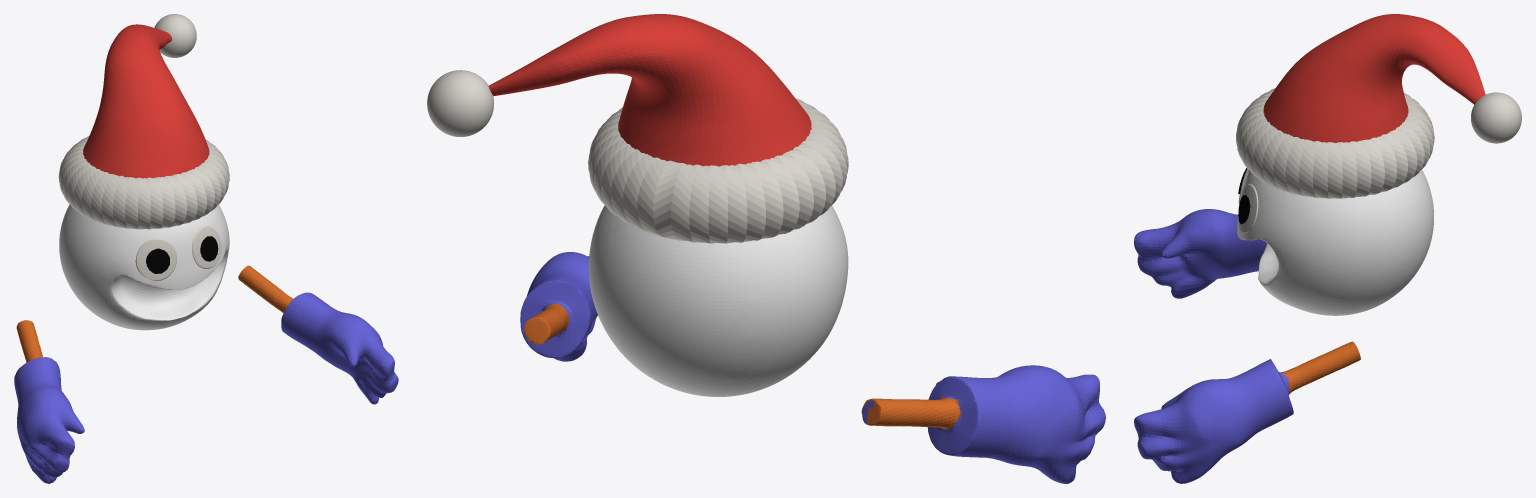
Rendered from yukiboss2.fbx.
The picture shows the model from 3 angles, left to right: view 1: azimuth 30°, elevation 25°; view 2: azimuth 150°, elevation 25°; view 3: azimuth 270°, elevation 25°; orthographic projection. The views are drawn at different scales.
Visible parts, largest first — view 1: Group20345, ZBrush_defualt_group, Group20345.002, Group20345.001; view 2: Group20345, ZBrush_defualt_group, Group20345.001, Group20345.002; view 3: Group20345, ZBrush_defualt_group, Group20345.002, Group20345.001.
Boxes of the visible parts, x1=… form: Group20345: x1=58, y1=14, x2=229, y2=280; ZBrush_defualt_group: x1=59, y1=204, x2=229, y2=330; Group20345.002: x1=238, y1=265, x2=398, y2=404; Group20345.001: x1=14, y1=320, x2=84, y2=483; Group20345: x1=427, y1=14, x2=848, y2=243; ZBrush_defualt_group: x1=588, y1=205, x2=848, y2=396; Group20345.001: x1=861, y1=365, x2=1105, y2=483; Group20345.002: x1=520, y1=252, x2=597, y2=361; Group20345: x1=1236, y1=14, x2=1521, y2=233; ZBrush_defualt_group: x1=1237, y1=170, x2=1433, y2=315; Group20345.002: x1=1134, y1=341, x2=1360, y2=483; Group20345.001: x1=1134, y1=209, x2=1266, y2=298.
Size of the model in its own units: 311 by 275 by 252.
